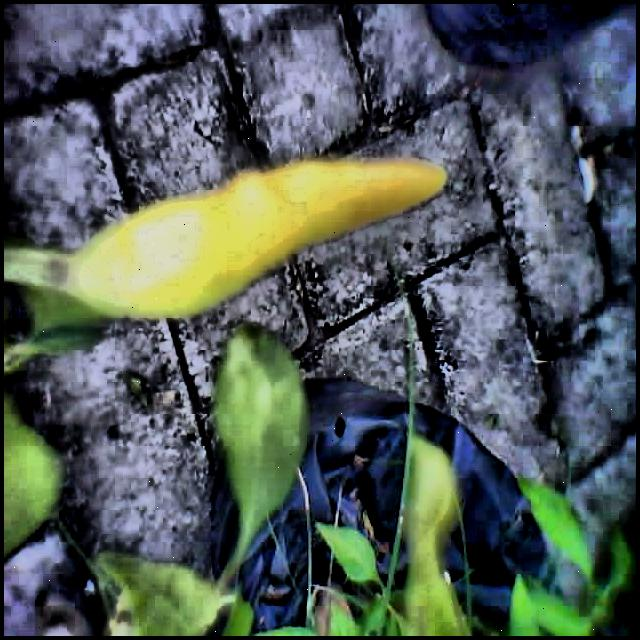Cabai: (67, 149, 454, 289)
